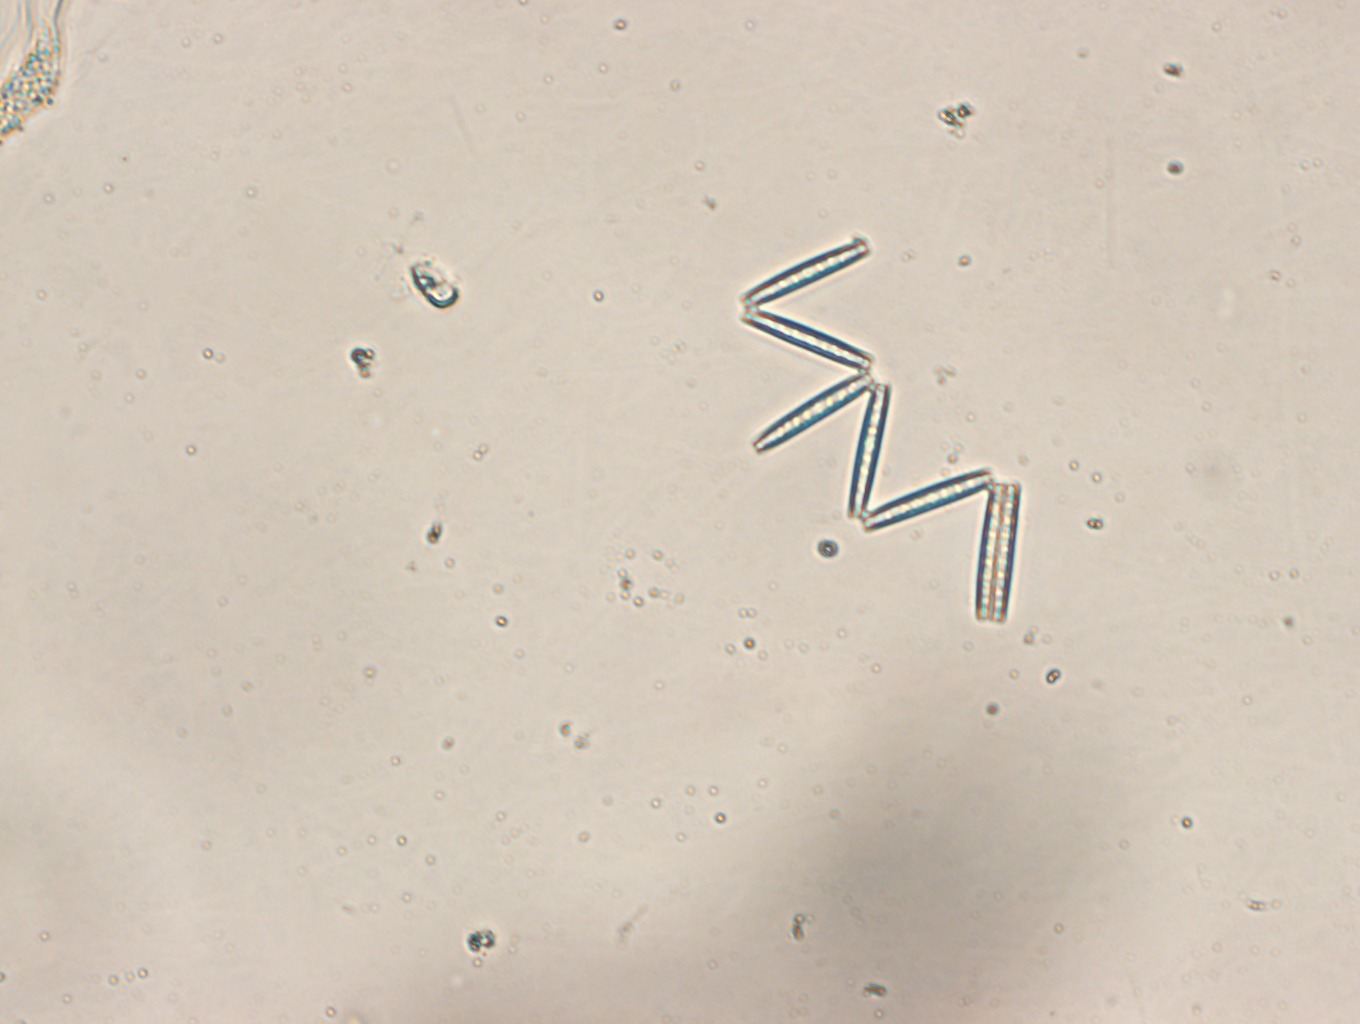thalassionema nitzschioides: (741, 234, 1020, 623)
